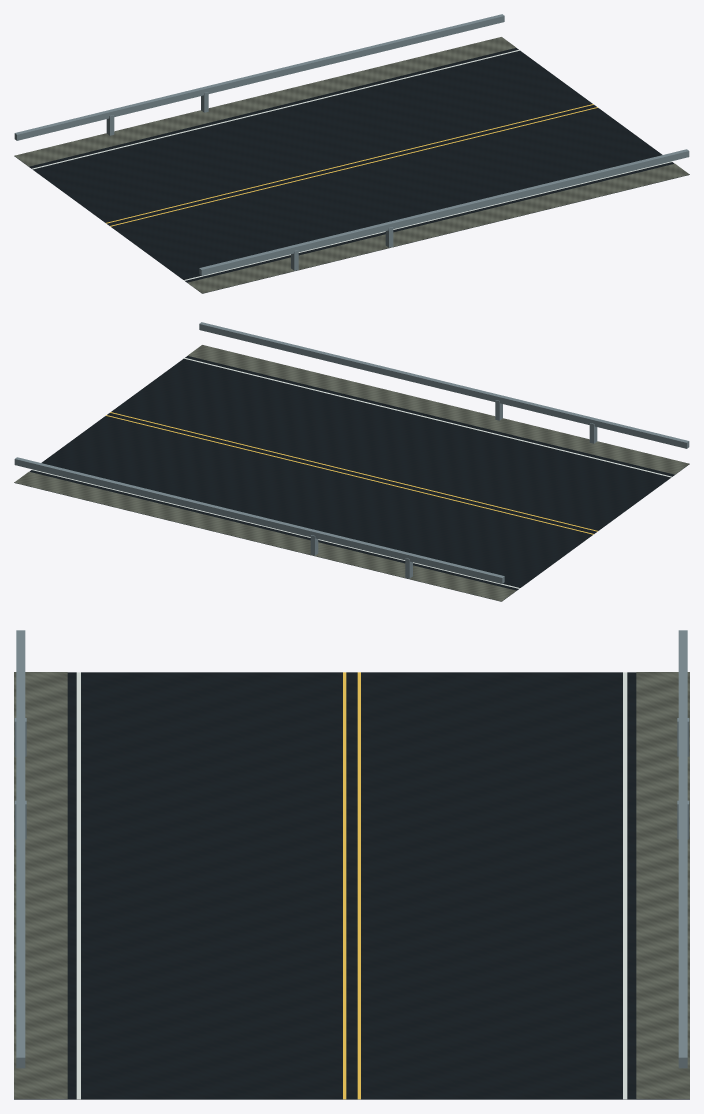
File: road_highway_regional_16m_guardrail_LOD2.glb
3 renders of one model, top to bottom at view 1: azimuth 30°, elevation 25°; view 2: azimuth 150°, elevation 25°; view 3: azimuth 270°, elevation 25°, orthographic. The views are drawn at different scales.
Parts seen in each view (by area): view 1: road_highway_regional_16m_guardrail__surface.002, road_highway_regional_16m_guardrail__shoulders.002, road_highway_regional_16m_guardrail__guardrail.002, road_highway_regional_16m_guardrail__markings.002; view 2: road_highway_regional_16m_guardrail__surface.002, road_highway_regional_16m_guardrail__shoulders.002, road_highway_regional_16m_guardrail__guardrail.002, road_highway_regional_16m_guardrail__markings.002; view 3: road_highway_regional_16m_guardrail__surface.002, road_highway_regional_16m_guardrail__shoulders.002, road_highway_regional_16m_guardrail__guardrail.002, road_highway_regional_16m_guardrail__markings.002.
Boxes of the visible parts, bbox=[...] form: road_highway_regional_16m_guardrail__surface.002: bbox=[14, 48, 689, 293]; road_highway_regional_16m_guardrail__shoulders.002: bbox=[14, 37, 689, 293]; road_highway_regional_16m_guardrail__guardrail.002: bbox=[14, 14, 689, 275]; road_highway_regional_16m_guardrail__markings.002: bbox=[32, 50, 671, 280]; road_highway_regional_16m_guardrail__surface.002: bbox=[14, 356, 689, 601]; road_highway_regional_16m_guardrail__shoulders.002: bbox=[14, 345, 689, 601]; road_highway_regional_16m_guardrail__guardrail.002: bbox=[14, 322, 689, 583]; road_highway_regional_16m_guardrail__markings.002: bbox=[32, 358, 671, 588]; road_highway_regional_16m_guardrail__surface.002: bbox=[14, 672, 689, 1099]; road_highway_regional_16m_guardrail__shoulders.002: bbox=[14, 672, 689, 1098]; road_highway_regional_16m_guardrail__guardrail.002: bbox=[14, 630, 689, 1068]; road_highway_regional_16m_guardrail__markings.002: bbox=[76, 672, 627, 1099].
Bounding box in the file's own units: 16 × 0.735 × 10.7.
5 materials, 2 textured.
